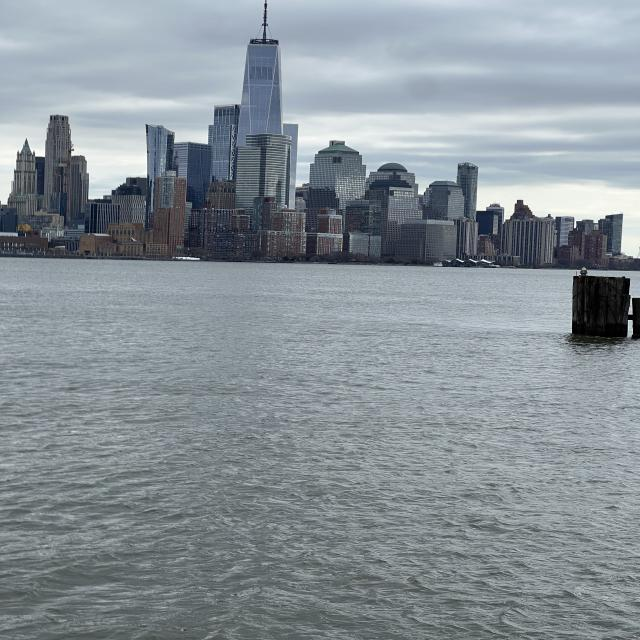WTC: (238, 3, 288, 136)
